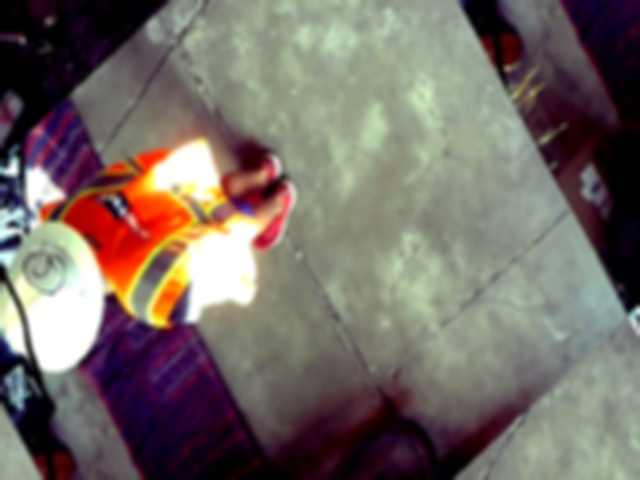two: (18, 238, 70, 306)
